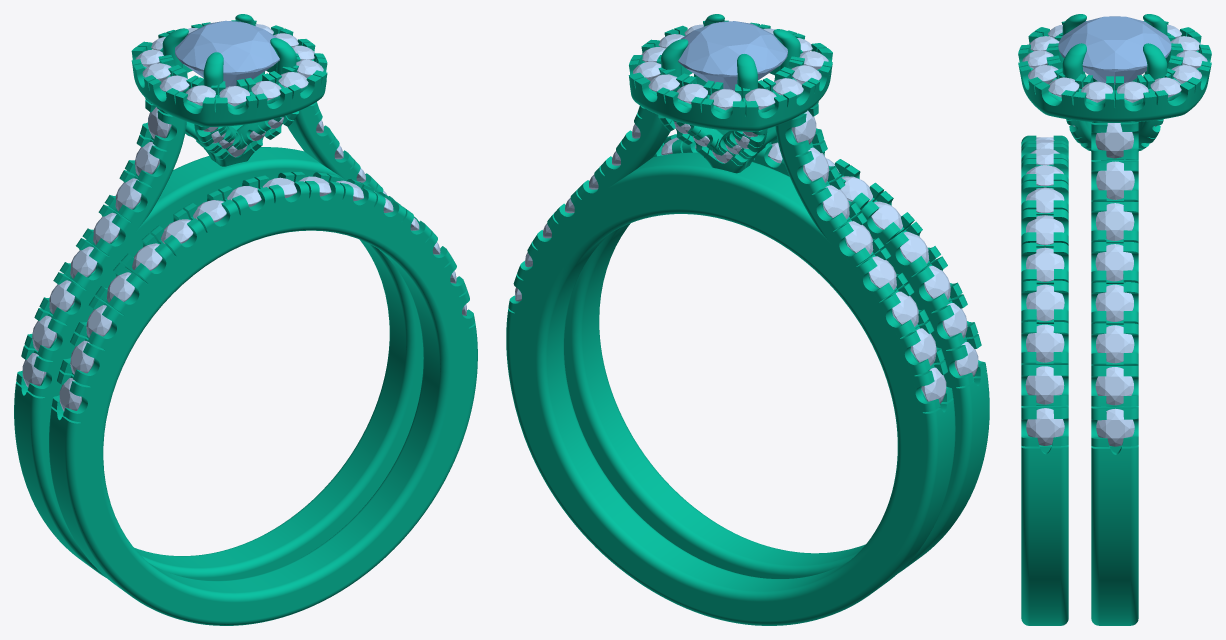
3 views of the same model, side by side, from view 1: azimuth 30°, elevation 25°; view 2: azimuth 150°, elevation 25°; view 3: azimuth 270°, elevation 25° (orthographic). The views are drawn at different scales.
Parts seen in each view (by area): view 1: VR-84(front).3dm, Diamond_Round; view 2: VR-84(front).3dm, Diamond_Round; view 3: VR-84(front).3dm, Diamond_Round (×28).
Boxes of the visible parts, <box> form: VR-84(front).3dm: <box>14,14,477,625</box>; Diamond_Round: <box>175,20,279,87</box>; VR-84(front).3dm: <box>506,14,989,625</box>; Diamond_Round: <box>678,21,787,90</box>; VR-84(front).3dm: <box>1018,14,1211,625</box>; Diamond_Round (×28): <box>1022,16,1207,446</box>.
Size of the model in its own units: 2.39 by 3.07 by 0.9381.
